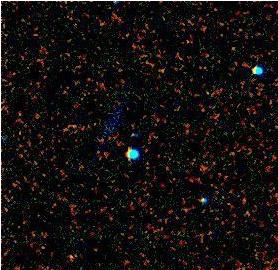star: (52, 241, 82, 270)
